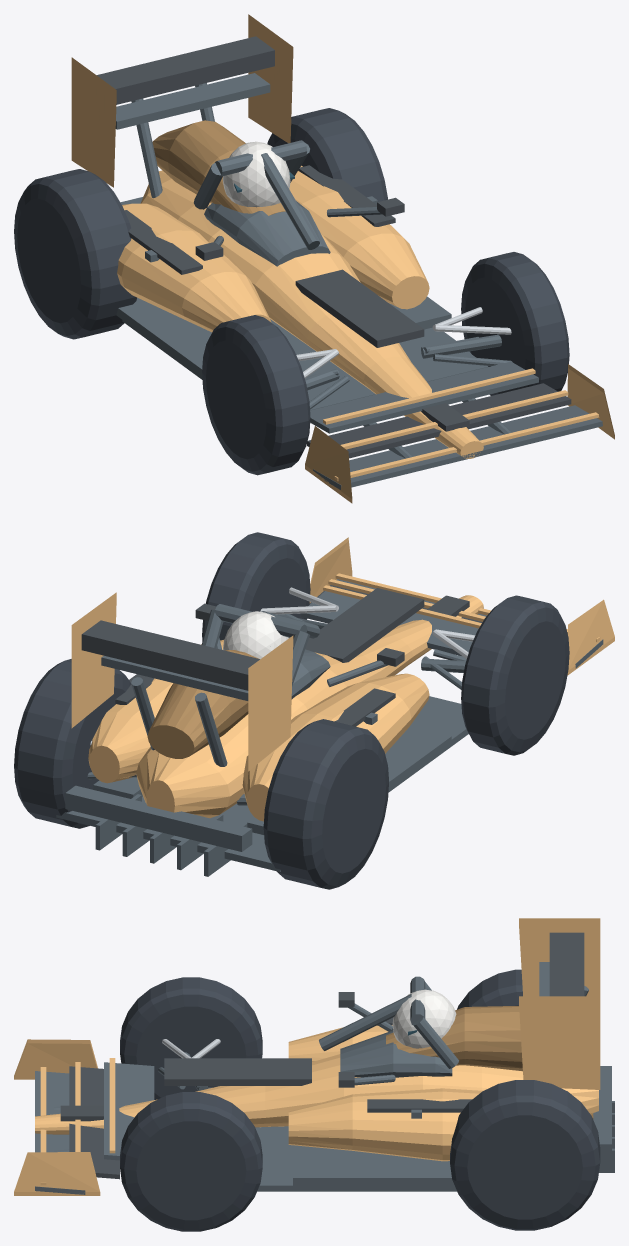
File: mclaren_high.glb
3 renders of one model, top to bottom at view 1: azimuth 30°, elevation 25°; view 2: azimuth 150°, elevation 25°; view 3: azimuth 270°, elevation 25°, orthographic. The views are drawn at different scales.
Visible parts, largest first — view 1: BODY_paint, BODY_carbon, BODY_accent, RearLeftWheel_rubber, FrontLeftWheel_rubber, FrontRightWheel_rubber, RearRightWheel_rubber, BODY_paint_dark, BODY_helmet, BODY_metal; view 2: BODY_paint, BODY_carbon, RearLeftWheel_rubber, FrontLeftWheel_rubber, BODY_accent, RearRightWheel_rubber, FrontRightWheel_rubber, BODY_paint_dark, BODY_helmet, BODY_metal; view 3: BODY_paint, BODY_carbon, RearRightWheel_rubber, FrontRightWheel_rubber, BODY_accent, FrontLeftWheel_rubber, BODY_paint_dark, BODY_helmet, RearLeftWheel_rubber.
Part boxes in pixels (x1,y1,x2,y2): BODY_paint: [71, 14, 614, 503]; BODY_carbon: [115, 73, 602, 489]; BODY_accent: [96, 36, 571, 458]; RearLeftWheel_rubber: [14, 169, 136, 339]; FrontLeftWheel_rubber: [202, 315, 310, 475]; FrontRightWheel_rubber: [461, 252, 569, 395]; RearRightWheel_rubber: [267, 108, 387, 201]; BODY_paint_dark: [152, 120, 285, 215]; BODY_helmet: [222, 141, 290, 207]; BODY_metal: [296, 307, 511, 378]; BODY_paint: [71, 537, 614, 821]; BODY_carbon: [56, 579, 603, 876]; RearLeftWheel_rubber: [263, 719, 388, 889]; FrontLeftWheel_rubber: [461, 595, 569, 755]; BODY_accent: [81, 585, 482, 726]; RearRightWheel_rubber: [14, 659, 130, 828]; FrontRightWheel_rubber: [202, 532, 310, 641]; BODY_paint_dark: [147, 650, 258, 758]; BODY_helmet: [223, 611, 288, 659]; BODY_metal: [90, 587, 475, 745]; BODY_paint: [14, 918, 600, 1195]; BODY_carbon: [35, 962, 614, 1194]; RearRightWheel_rubber: [450, 1080, 600, 1230]; FrontRightWheel_rubber: [120, 1092, 262, 1231]; BODY_accent: [60, 932, 584, 1179]; FrontLeftWheel_rubber: [120, 977, 262, 1099]; BODY_paint_dark: [386, 1006, 522, 1071]; BODY_helmet: [392, 989, 456, 1048]; RearLeftWheel_rubber: [457, 969, 522, 1009].
Bounding box in the file's own units: 2.59 × 1.9 × 4.88.
